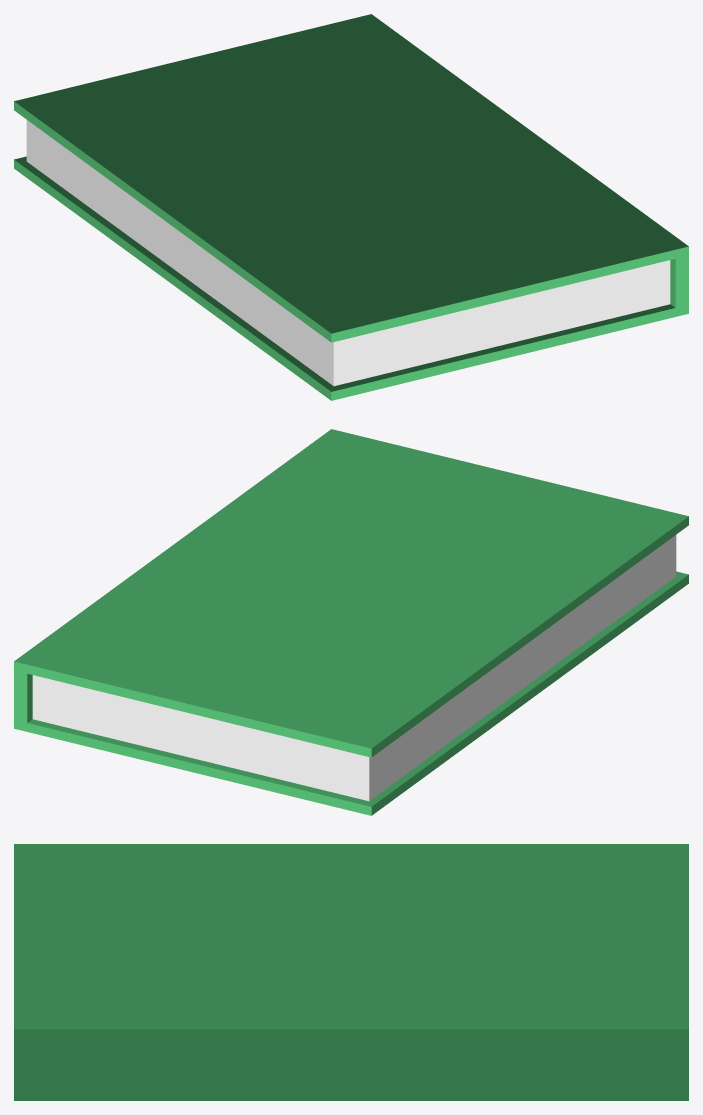
File: Book 8.fbx
3 views of the same model, one above another, from view 1: azimuth 30°, elevation 25°; view 2: azimuth 150°, elevation 25°; view 3: azimuth 270°, elevation 25° (orthographic). The views are drawn at different scales.
Visible parts, largest first — view 1: Node 0; view 2: Node 0; view 3: Node 0.
Part boxes in pixels (box(x1,y1,x2,y2)): Node 0: box(14, 14, 688, 400); Node 0: box(14, 429, 688, 815); Node 0: box(14, 844, 688, 1100).
Size of the model in its own units: 0.2323 by 0.0272 by 0.151.
